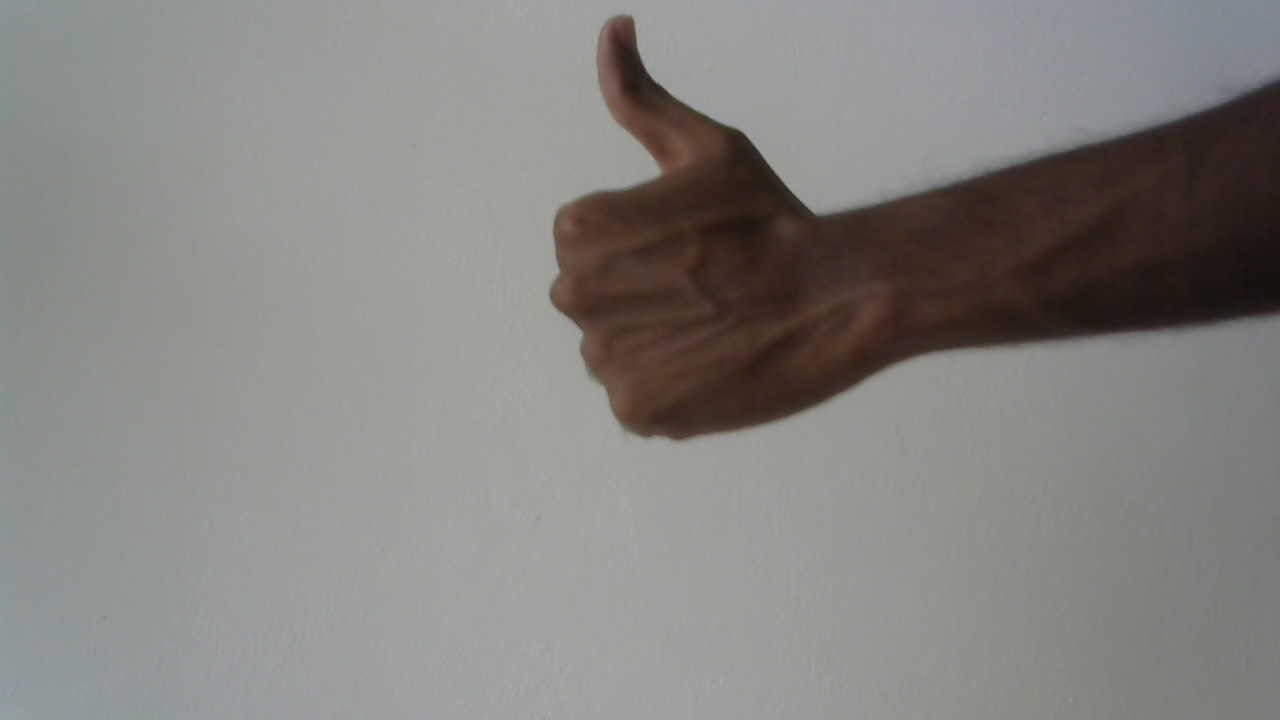thumbsup: (530, 10, 889, 463)
